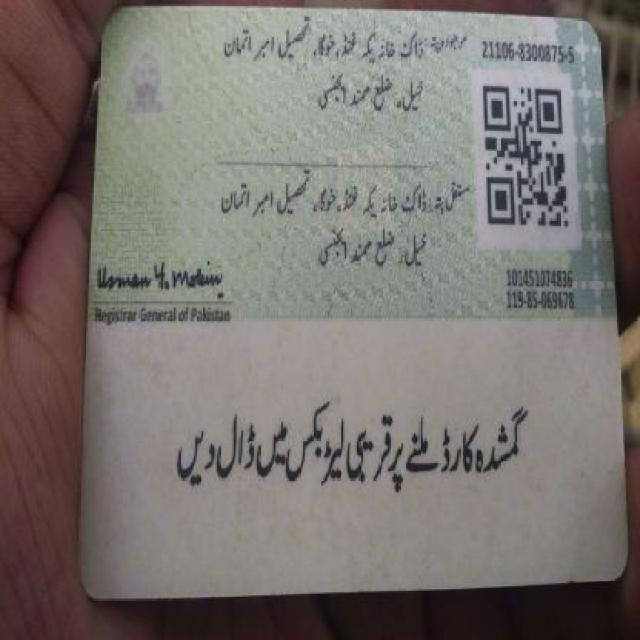Back: (80, 8, 632, 600)
